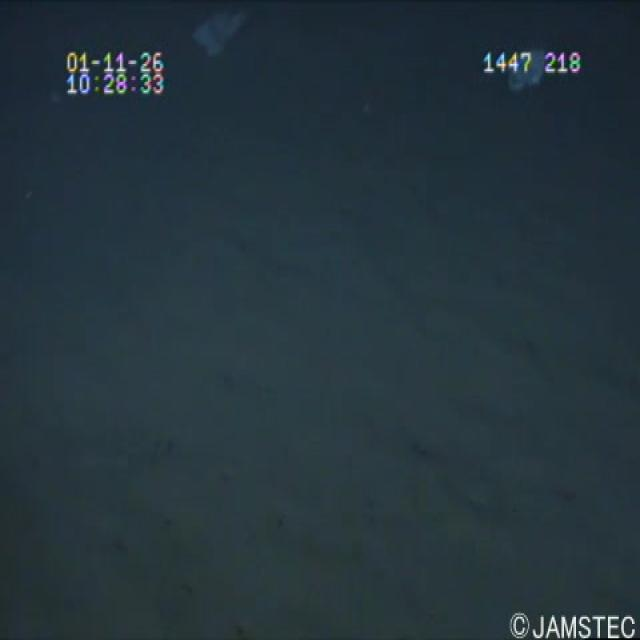plastic: (482, 34, 558, 100), (183, 3, 257, 68)
